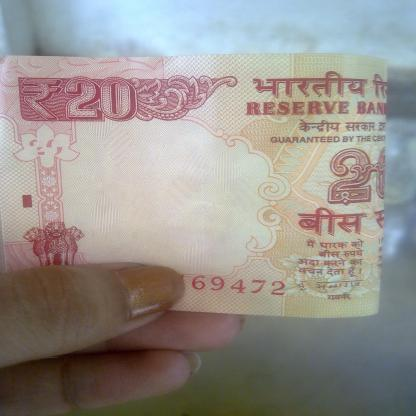Old20Front: (1, 64, 384, 316)
